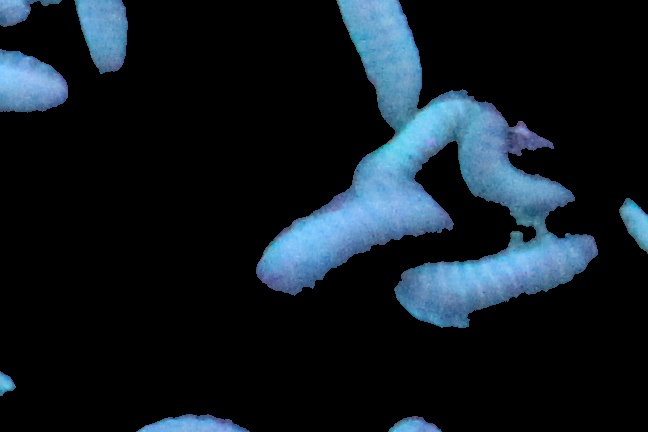larvae: (258, 190, 453, 297), (393, 231, 595, 316), (334, 1, 430, 128), (460, 106, 567, 213), (347, 91, 465, 184), (77, 1, 140, 74), (1, 51, 68, 115)
